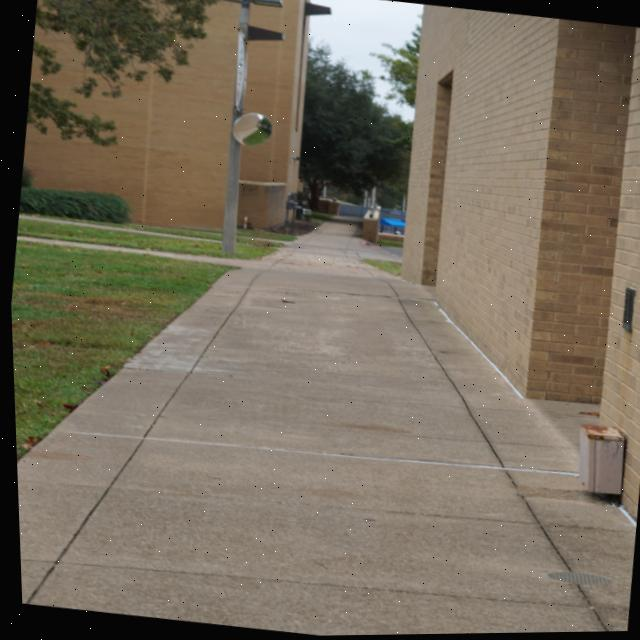Obstacle: (574, 426, 620, 496)
Sidewalk: (13, 223, 632, 637), (14, 235, 253, 268), (16, 215, 218, 243)
